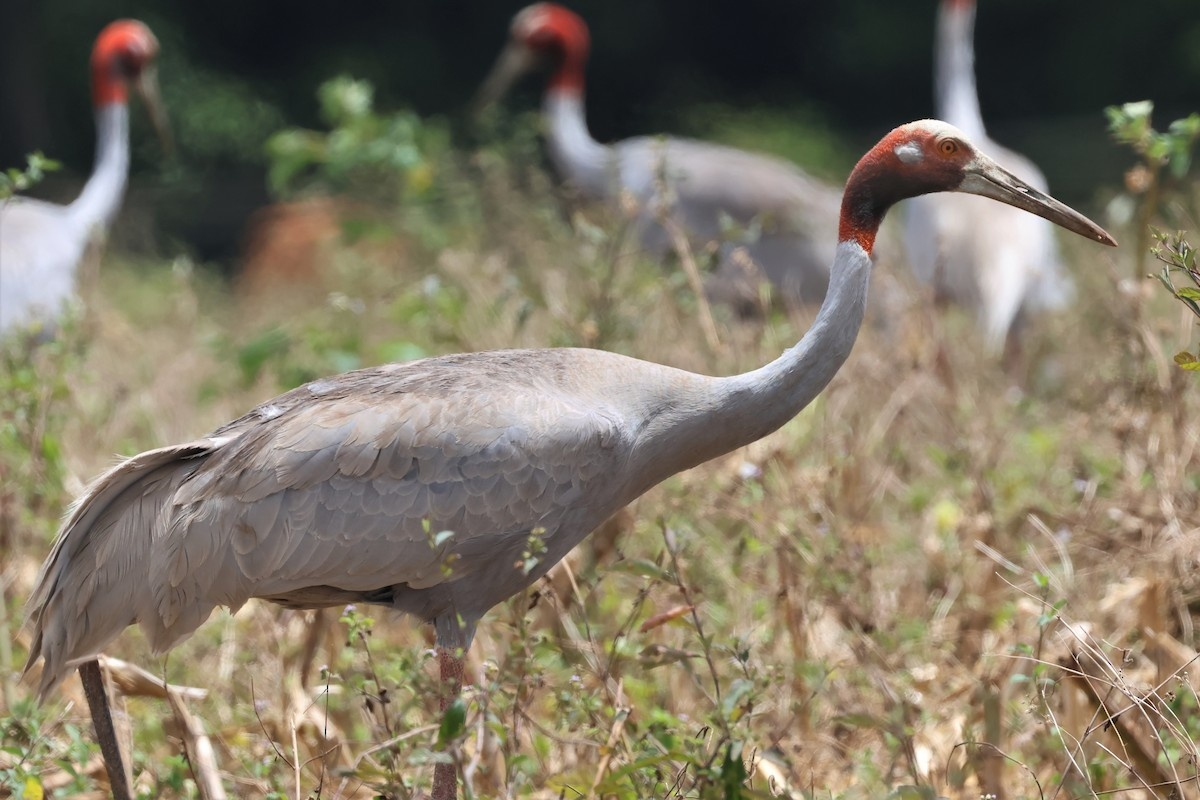crane: (23, 110, 1118, 748), (480, 2, 845, 250), (1, 30, 187, 329)
